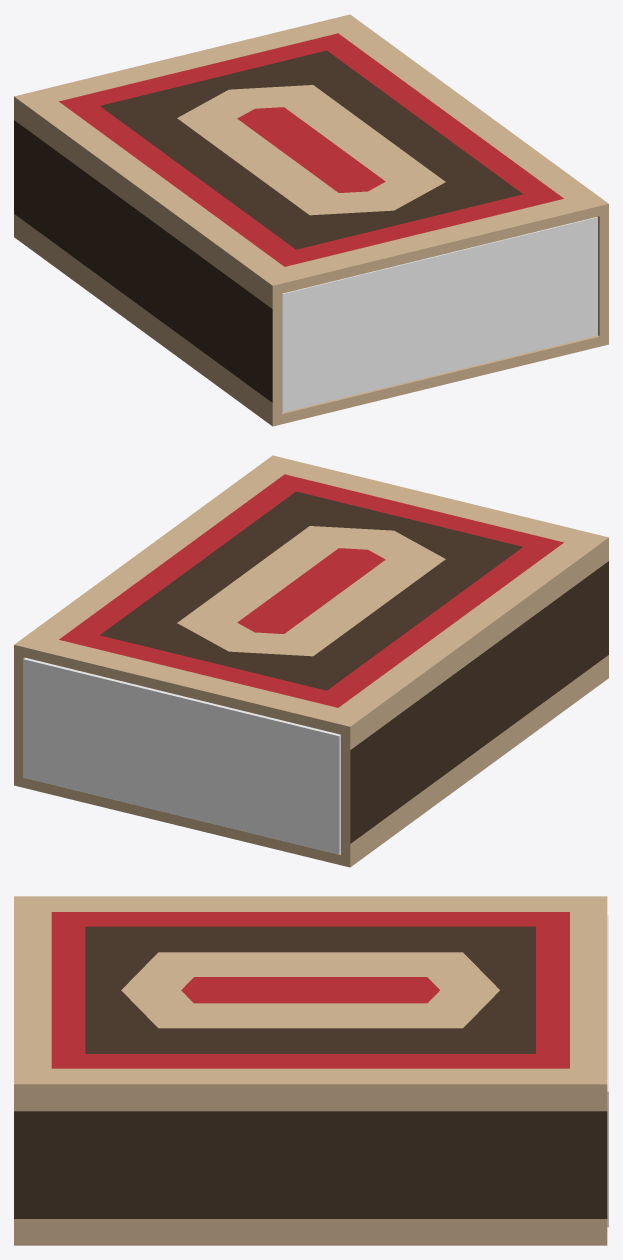
The model's file is matches-box.glb.
3 renders of one model, top to bottom at view 1: azimuth 30°, elevation 25°; view 2: azimuth 150°, elevation 25°; view 3: azimuth 270°, elevation 25°, orthographic. The views are drawn at different scales.
Visible parts, largest first — view 1: matches-box-cover, matches; view 2: matches-box-cover, matches; view 3: matches-box-cover, matches.
Part boxes in pixels (x1,y1,x2,y2): matches-box-cover: (14,14,608,426); matches: (282,217,597,412); matches-box-cover: (14,455,608,867); matches: (23,658,340,854); matches-box-cover: (14,896,607,1245); matches: (607,915,608,1227).
Size of the model in its own units: 0.075 by 0.03 by 0.1003.
Materials: 1 (1 with a texture image).
